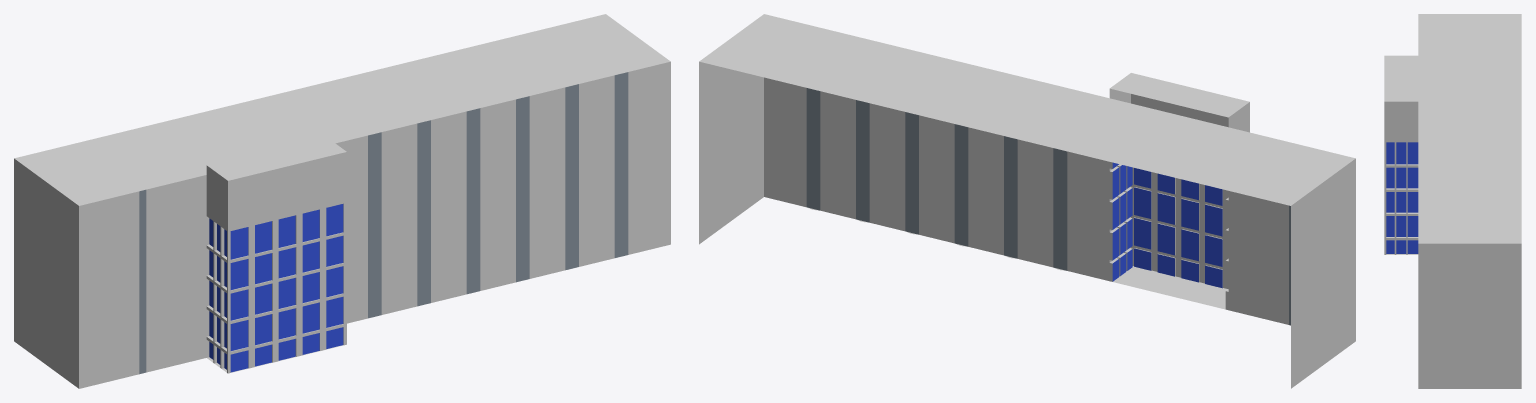
Rendered from edificioIIIT.fbx.
3 views of the same model, side by side, from view 1: azimuth 30°, elevation 25°; view 2: azimuth 150°, elevation 25°; view 3: azimuth 270°, elevation 25° (orthographic). The views are drawn at different scales.
Parts seen in each view (by area): view 1: Cube; view 2: Cube; view 3: Cube.
Boxes of the visible parts, x1,y1,x2,y2 form: Cube: [14, 14, 670, 388]; Cube: [699, 14, 1355, 388]; Cube: [1384, 14, 1521, 388].
Size of the model in its own units: 5130 by 1597 by 1300.
